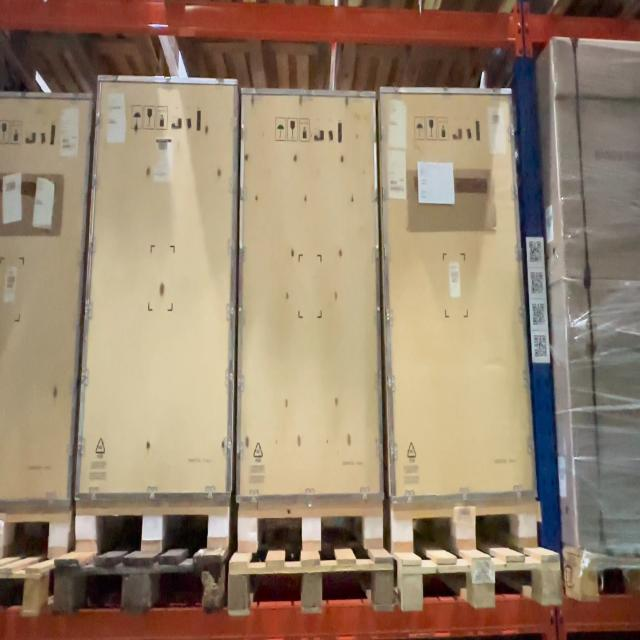box: (75, 76, 241, 504), (233, 89, 383, 501), (383, 86, 533, 495)
